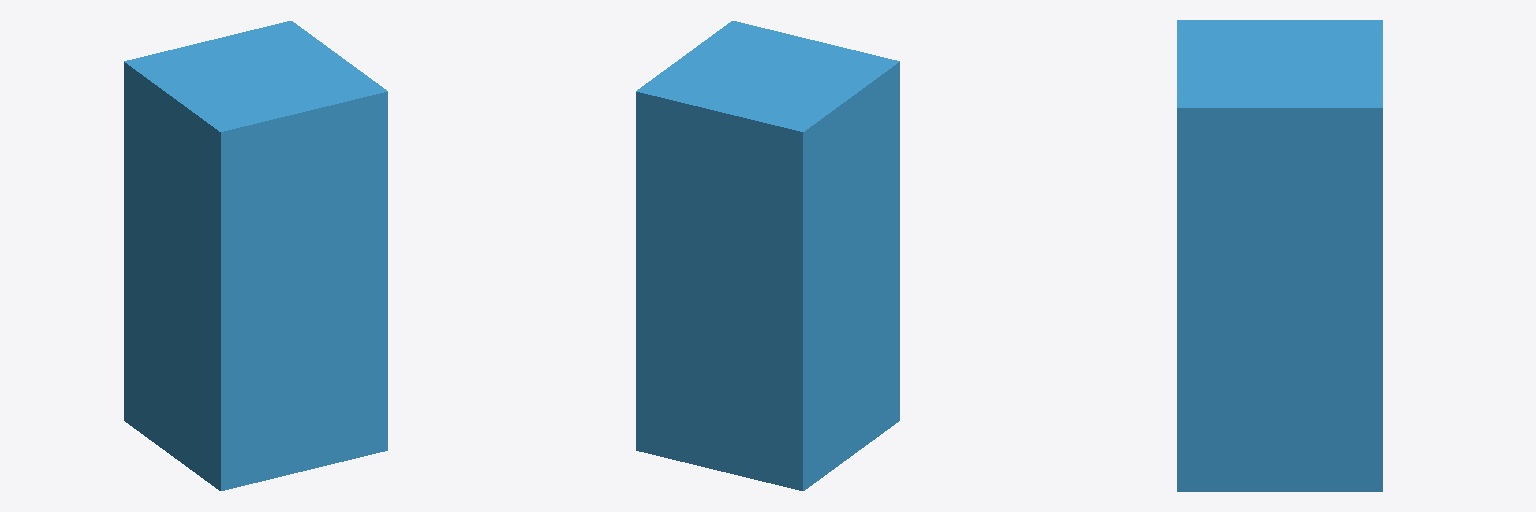
The robot description file, URDF, robot "ouzel":
<?xml version="1.0" encoding="utf-8" ?><!-- =================================================================================== --><!-- |    This document was autogenerated by xacro from ouzel_base.xacro               | --><!-- |    EDITING THIS FILE BY HAND IS NOT RECOMMENDED                                 | --><!-- =================================================================================== --><!--
  Copyright 2015 [author], ASL, ETH Zurich, Switzerland
  Copyright 2015 [author], ASL, ETH Zurich, Switzerland
  Copyright 2015 [author], ASL, ETH Zurich, Switzerland
  Copyright 2015 [author], ASL, ETH Zurich, Switzerland
  Copyright 2015 [author], ASL, ETH Zurich, Switzerland

  Licensed under the Apache License, Version 2.0 (the "License");
  you may not use this file except in compliance with the License.
  You may obtain a copy of the License at

  http://www.apache.org/licenses/LICENSE-2.0

  Unless required by applicable law or agreed to in writing, software
  distributed under the License is distributed on an "AS IS" BASIS,
  WITHOUT WARRANTIES OR CONDITIONS OF ANY KIND, either express or implied.
  See the License for the specific language governing permissions and
  limitations under the License.
--><robot name="ouzel"><!-- =============================================================== --><!-- ==================== ROS INTERFACE MACRO ====================== --><!-- =============================================================== --><!-- <xacro:macro 
  		name="ros_interface_plugin_macro"
  		params="namespace">
    <gazebo>
      <plugin name="ros_interface_plugin" filename="librotors_gazebo_ros_interface_plugin.so">
        <robotNamespace>${namespace}</robotNamespace>
      </plugin>
    </gazebo>
  </xacro:macro>--><link name="ouzel/base_link" /><joint name="ouzel/base_joint" type="fixed"><origin rpy="0 0 0" xyz="0 0 0" /><parent link="ouzel/base_link" /><child link="ouzel/base_link_inertia" /></joint><link name="ouzel/base_link_inertia"><inertial><mass value="3.13" /><!-- [kg] --><origin xyz="0.0 0.0 0.0" /><inertia ixx="0.0075" ixy="-3.4208e-05" ixz="2.4695e-05" iyy="0.010939" iyz="-3.8826e-06" izz="0.01369" /></inertial><visual><origin rpy="0 0 0" xyz="0 0 0" /><geometry><box size="0.22 0.22 0.45" /><!--<mesh filename="package://mav_description/meshes/ouzel_simple.stl" scale="1 1 1"/>--></geometry></visual><collision><origin rpy="0 0 0" xyz="0 0 0" /><geometry><box size="0.22 0.22 0.45" /><!-- [m] [m] [m] --></geometry></collision></link><!-- attach multirotor_base_plugin to the base_link --><!-- Rotor tilt_unit --><joint name="ouzel/tilt_unit_0_revolutejoint" type="continuous"><origin rpy="0 0 4.71238898038" xyz="0 -0.3 0" /><axis xyz="1 0 0" /><parent link="ouzel/base_link" /><child link="ouzel/tilt_unit_0" /></joint><link name="ouzel/tilt_unit_0"><inertial><mass value="0.277" /><!-- [kg] --><inertia ixx="0.00034257" ixy="0" ixz="0" iyy="0.0013205" iyz="0" izz="0.0010037" /><!-- [kg m^2] [kg m^2] [kg m^2] [kg m^2] [kg m^2] [kg m^2] --></inertial><visual><geometry><mesh filename="[local-path]/omav_ws/src/rotors_simulator/rotors_description/meshes/omav/omav_tiltarm.dae" scale="1 1 1" /></geometry></visual><collision><geometry><box size="0.005 0.005 0.005" /><!-- [m] --></geometry></collision></link><!-- Upper Rotor --><joint name="rotor_0_joint" type="continuous"><origin rpy="0 0 0" xyz="0 0 0.06" /><axis xyz="0 0 1" /><parent link="ouzel/tilt_unit_0" /><child link="rotor_0" /></joint><link name="rotor_0"><inertial><mass value="0.0065" /><!-- [kg] --><inertia ixx="2.2154157805e-06" ixy="0.0" ixz="0.0" iyy="7.08147091741e-05" iyz="0.0" izz="7.29326249936e-05" /></inertial><visual><geometry><mesh filename="[local-path]/omav_ws/src/rotors_simulator/rotors_description/meshes/propeller_ccw.dae" scale="0.1143 0.1143 0.1143" /></geometry></visual><collision><geometry><cylinder length="0.005" radius="0.1143" /><!-- [m] --></geometry></collision></link><!-- Lower Rotor --><joint name="rotor_6_joint" type="continuous"><origin rpy="0 0 0" xyz="0 0 -0.06" /><axis xyz="0 0 1" /><parent link="ouzel/tilt_unit_0" /><child link="rotor_6" /></joint><link name="rotor_6"><inertial><mass value="0.0065" /><!-- [kg] --><inertia ixx="2.2154157805e-06" ixy="0.0" ixz="0.0" iyy="7.08147091741e-05" iyz="0.0" izz="7.29326249936e-05" /></inertial><visual><geometry><mesh filename="[local-path]/omav_ws/src/rotors_simulator/rotors_description/meshes/propeller_cw.dae" scale="0.1143 0.1143 0.1143" /></geometry></visual><collision><geometry><cylinder length="0.005" radius="0.1143" /><!-- [m] --></geometry></collision></link><!-- Rotor tilt_unit --><joint name="ouzel/tilt_unit_1_revolutejoint" type="continuous"><origin rpy="0 0 1.57079632679" xyz="0 0.3 0" /><axis xyz="1 0 0" /><parent link="ouzel/base_link" /><child link="ouzel/tilt_unit_1" /></joint><link name="ouzel/tilt_unit_1"><inertial><mass value="0.277" /><!-- [kg] --><inertia ixx="0.00034257" ixy="0" ixz="0" iyy="0.0013205" iyz="0" izz="0.0010037" /><!-- [kg m^2] [kg m^2] [kg m^2] [kg m^2] [kg m^2] [kg m^2] --></inertial><visual><geometry><mesh filename="[local-path]/omav_ws/src/rotors_simulator/rotors_description/meshes/omav/omav_tiltarm.dae" scale="1 1 1" /></geometry></visual><collision><geometry><box size="0.005 0.005 0.005" /><!-- [m] --></geometry></collision></link><!-- Upper Rotor --><joint name="rotor_1_joint" type="continuous"><origin rpy="0 0 0" xyz="0 0 0.06" /><axis xyz="0 0 1" /><parent link="ouzel/tilt_unit_1" /><child link="rotor_1" /></joint><link name="rotor_1"><inertial><mass value="0.0065" /><!-- [kg] --><inertia ixx="2.2154157805e-06" ixy="0.0" ixz="0.0" iyy="7.08147091741e-05" iyz="0.0" izz="7.29326249936e-05" /></inertial><visual><geometry><mesh filename="[local-path]/omav_ws/src/rotors_simulator/rotors_description/meshes/propeller_cw.dae" scale="0.1143 0.1143 0.1143" /></geometry></visual><collision><geometry><cylinder length="0.005" radius="0.1143" /><!-- [m] --></geometry></collision></link><!-- Lower Rotor --><joint name="rotor_7_joint" type="continuous"><origin rpy="0 0 0" xyz="0 0 -0.06" /><axis xyz="0 0 1" /><parent link="ouzel/tilt_unit_1" /><child link="rotor_7" /></joint><link name="rotor_7"><inertial><mass value="0.0065" /><!-- [kg] --><inertia ixx="2.2154157805e-06" ixy="0.0" ixz="0.0" iyy="7.08147091741e-05" iyz="0.0" izz="7.29326249936e-05" /></inertial><visual><geometry><mesh filename="[local-path]/omav_ws/src/rotors_simulator/rotors_description/meshes/propeller_ccw.dae" scale="0.1143 0.1143 0.1143" /></geometry></visual><collision><geometry><cylinder length="0.005" radius="0.1143" /><!-- [m] --></geometry></collision></link><!-- Rotor tilt_unit --><joint name="ouzel/tilt_unit_2_revolutejoint" type="continuous"><origin rpy="0 0 0.52359877559" xyz="0.259807621135 0.15 0" /><axis xyz="1 0 0" /><parent link="ouzel/base_link" /><child link="ouzel/tilt_unit_2" /></joint><link name="ouzel/tilt_unit_2"><inertial><mass value="0.277" /><!-- [kg] --><inertia ixx="0.00034257" ixy="0" ixz="0" iyy="0.0013205" iyz="0" izz="0.0010037" /><!-- [kg m^2] [kg m^2] [kg m^2] [kg m^2] [kg m^2] [kg m^2] --></inertial><visual><geometry><mesh filename="[local-path]/omav_ws/src/rotors_simulator/rotors_description/meshes/omav/omav_tiltarm.dae" scale="1 1 1" /></geometry></visual><collision><geometry><box size="0.005 0.005 0.005" /><!-- [m] --></geometry></collision></link><!-- Upper Rotor --><joint name="rotor_2_joint" type="continuous"><origin rpy="0 0 0" xyz="0 0 0.06" /><axis xyz="0 0 1" /><parent link="ouzel/tilt_unit_2" /><child link="rotor_2" /></joint><link name="rotor_2"><inertial><mass value="0.0065" /><!-- [kg] --><inertia ixx="2.2154157805e-06" ixy="0.0" ixz="0.0" iyy="7.08147091741e-05" iyz="0.0" izz="7.29326249936e-05" /></inertial><visual><geometry><mesh filename="[local-path]/omav_ws/src/rotors_simulator/rotors_description/meshes/propeller_ccw.dae" scale="0.1143 0.1143 0.1143" /></geometry></visual><collision><geometry><cylinder length="0.005" radius="0.1143" /><!-- [m] --></geometry></collision></link><!-- Lower Rotor --><joint name="rotor_8_joint" type="continuous"><origin rpy="0 0 0" xyz="0 0 -0.06" /><axis xyz="0 0 1" /><parent link="ouzel/tilt_unit_2" /><child link="rotor_8" /></joint><link name="rotor_8"><inertial><mass value="0.0065" /><!-- [kg] --><inertia ixx="2.2154157805e-06" ixy="0.0" ixz="0.0" iyy="7.08147091741e-05" iyz="0.0" izz="7.29326249936e-05" /></inertial><visual><geometry><mesh filename="[local-path]/omav_ws/src/rotors_simulator/rotors_description/meshes/propeller_cw.dae" scale="0.1143 0.1143 0.1143" /></geometry></visual><collision><geometry><cylinder length="0.005" radius="0.1143" /><!-- [m] --></geometry></collision></link><!-- Rotor tilt_unit --><joint name="ouzel/tilt_unit_3_revolutejoint" type="continuous"><origin rpy="0 0 3.66519142919" xyz="-0.259807621135 -0.15 0" /><axis xyz="1 0 0" /><parent link="ouzel/base_link" /><child link="ouzel/tilt_unit_3" /></joint><link name="ouzel/tilt_unit_3"><inertial><mass value="0.277" /><!-- [kg] --><inertia ixx="0.00034257" ixy="0" ixz="0" iyy="0.0013205" iyz="0" izz="0.0010037" /><!-- [kg m^2] [kg m^2] [kg m^2] [kg m^2] [kg m^2] [kg m^2] --></inertial><visual><geometry><mesh filename="[local-path]/omav_ws/src/rotors_simulator/rotors_description/meshes/omav/omav_tiltarm.dae" scale="1 1 1" /></geometry></visual><collision><geometry><box size="0.005 0.005 0.005" /><!-- [m] --></geometry></collision></link><!-- Upper Rotor --><joint name="rotor_3_joint" type="continuous"><origin rpy="0 0 0" xyz="0 0 0.06" /><axis xyz="0 0 1" /><parent link="ouzel/tilt_unit_3" /><child link="rotor_3" /></joint><link name="rotor_3"><inertial><mass value="0.0065" /><!-- [kg] --><inertia ixx="2.2154157805e-06" ixy="0.0" ixz="0.0" iyy="7.08147091741e-05" iyz="0.0" izz="7.29326249936e-05" /></inertial><visual><geometry><mesh filename="[local-path]/omav_ws/src/rotors_simulator/rotors_description/meshes/propeller_cw.dae" scale="0.1143 0.1143 0.1143" /></geometry></visual><collision><geometry><cylinder length="0.005" radius="0.1143" /><!-- [m] --></geometry></collision></link><!-- Lower Rotor --><joint name="rotor_9_joint" type="continuous"><origin rpy="0 0 0" xyz="0 0 -0.06" /><axis xyz="0 0 1" /><parent link="ouzel/tilt_unit_3" /><child link="rotor_9" /></joint><link name="rotor_9"><inertial><mass value="0.0065" /><!-- [kg] --><inertia ixx="2.2154157805e-06" ixy="0.0" ixz="0.0" iyy="7.08147091741e-05" iyz="0.0" izz="7.29326249936e-05" /></inertial><visual><geometry><mesh filename="[local-path]/omav_ws/src/rotors_simulator/rotors_description/meshes/propeller_ccw.dae" scale="0.1143 0.1143 0.1143" /></geometry></visual><collision><geometry><cylinder length="0.005" radius="0.1143" /><!-- [m] --></geometry></collision></link><!-- Rotor tilt_unit --><joint name="ouzel/tilt_unit_4_revolutejoint" type="continuous"><origin rpy="0 0 5.75958653158" xyz="0.259807621135 -0.15 0" /><axis xyz="1 0 0" /><parent link="ouzel/base_link" /><child link="ouzel/tilt_unit_4" /></joint><link name="ouzel/tilt_unit_4"><inertial><mass value="0.277" /><!-- [kg] --><inertia ixx="0.00034257" ixy="0" ixz="0" iyy="0.0013205" iyz="0" izz="0.0010037" /><!-- [kg m^2] [kg m^2] [kg m^2] [kg m^2] [kg m^2] [kg m^2] --></inertial><visual><geometry><mesh filename="[local-path]/omav_ws/src/rotors_simulator/rotors_description/meshes/omav/omav_tiltarm.dae" scale="1 1 1" /></geometry></visual><collision><geometry><box size="0.005 0.005 0.005" /><!-- [m] --></geometry></collision></link><!-- Upper Rotor --><joint name="rotor_4_joint" type="continuous"><origin rpy="0 0 0" xyz="0 0 0.06" /><axis xyz="0 0 1" /><parent link="ouzel/tilt_unit_4" /><child link="rotor_4" /></joint><link name="rotor_4"><inertial><mass value="0.0065" /><!-- [kg] --><inertia ixx="2.2154157805e-06" ixy="0.0" ixz="0.0" iyy="7.08147091741e-05" iyz="0.0" izz="7.29326249936e-05" /></inertial><visual><geometry><mesh filename="[local-path]/omav_ws/src/rotors_simulator/rotors_description/meshes/propeller_cw.dae" scale="0.1143 0.1143 0.1143" /></geometry></visual><collision><geometry><cylinder length="0.005" radius="0.1143" /><!-- [m] --></geometry></collision></link><!-- Lower Rotor --><joint name="rotor_10_joint" type="continuous"><origin rpy="0 0 0" xyz="0 0 -0.06" /><axis xyz="0 0 1" /><parent link="ouzel/tilt_unit_4" /><child link="rotor_10" /></joint><link name="rotor_10"><inertial><mass value="0.0065" /><!-- [kg] --><inertia ixx="2.2154157805e-06" ixy="0.0" ixz="0.0" iyy="7.08147091741e-05" iyz="0.0" izz="7.29326249936e-05" /></inertial><visual><geometry><mesh filename="[local-path]/omav_ws/src/rotors_simulator/rotors_description/meshes/propeller_ccw.dae" scale="0.1143 0.1143 0.1143" /></geometry></visual><collision><geometry><cylinder length="0.005" radius="0.1143" /><!-- [m] --></geometry></collision></link><!-- Rotor tilt_unit --><joint name="ouzel/tilt_unit_5_revolutejoint" type="continuous"><origin rpy="0 0 2.61799387799" xyz="-0.259807621135 0.15 0" /><axis xyz="1 0 0" /><parent link="ouzel/base_link" /><child link="ouzel/tilt_unit_5" /></joint><link name="ouzel/tilt_unit_5"><inertial><mass value="0.277" /><!-- [kg] --><inertia ixx="0.00034257" ixy="0" ixz="0" iyy="0.0013205" iyz="0" izz="0.0010037" /><!-- [kg m^2] [kg m^2] [kg m^2] [kg m^2] [kg m^2] [kg m^2] --></inertial><visual><geometry><mesh filename="[local-path]/omav_ws/src/rotors_simulator/rotors_description/meshes/omav/omav_tiltarm.dae" scale="1 1 1" /></geometry></visual><collision><geometry><box size="0.005 0.005 0.005" /><!-- [m] --></geometry></collision></link><!-- Upper Rotor --><joint name="rotor_5_joint" type="continuous"><origin rpy="0 0 0" xyz="0 0 0.06" /><axis xyz="0 0 1" /><parent link="ouzel/tilt_unit_5" /><child link="rotor_5" /></joint><link name="rotor_5"><inertial><mass value="0.0065" /><!-- [kg] --><inertia ixx="2.2154157805e-06" ixy="0.0" ixz="0.0" iyy="7.08147091741e-05" iyz="0.0" izz="7.29326249936e-05" /></inertial><visual><geometry><mesh filename="[local-path]/omav_ws/src/rotors_simulator/rotors_description/meshes/propeller_ccw.dae" scale="0.1143 0.1143 0.1143" /></geometry></visual><collision><geometry><cylinder length="0.005" radius="0.1143" /><!-- [m] --></geometry></collision></link><!-- Lower Rotor --><joint name="rotor_11_joint" type="continuous"><origin rpy="0 0 0" xyz="0 0 -0.06" /><axis xyz="0 0 1" /><parent link="ouzel/tilt_unit_5" /><child link="rotor_11" /></joint><link name="rotor_11"><inertial><mass value="0.0065" /><!-- [kg] --><inertia ixx="2.2154157805e-06" ixy="0.0" ixz="0.0" iyy="7.08147091741e-05" iyz="0.0" izz="7.29326249936e-05" /></inertial><visual><geometry><mesh filename="[local-path]/omav_ws/src/rotors_simulator/rotors_description/meshes/propeller_cw.dae" scale="0.1143 0.1143 0.1143" /></geometry></visual><collision><geometry><cylinder length="0.005" radius="0.1143" /><!-- [m] --></geometry></collision></link><!-- IMU link --><link name="ouzel/imu_link"><inertial><inertia ixx="0.00001" ixy="0.0" ixz="0.0" iyy="0.00001" iyz="0.0" izz="0.00001" /><mass value="0.015" /><!-- [kg] --><origin rpy="0 0 0" xyz="0 0 0" /></inertial></link><!-- IMU joint --><joint name="ouzel/imu_joint" type="fixed"><origin rpy="0 0 0" xyz="0 0 0" /><parent link="ouzel/base_link" /><child link="ouzel/imu_link" /><limit effort="0" lower="0" upper="0" velocity="0" /></joint><!-- odometry link --><link name="ouzel/odometry_sensor1_link"><inertial><inertia ixx="0.00001" ixy="0.0" ixz="0.0" iyy="0.00001" iyz="0.0" izz="0.00001" /><mass value="1e-05" /><!-- [kg] --></inertial></link><!-- odometry joint --><joint name="ouzel/odometry_sensor1_joint" type="fixed"><parent link="ouzel/base_link" /><origin rpy="0.0 0.0 0.0" xyz="0.0 0.0 0.0" /><child link="ouzel/odometry_sensor1_link" /><limit effort="0" lower="0" upper="0" velocity="0" /></joint></robot>

--- Render facts (derived) ---
The picture shows the robot from 3 angles, left to right: view 1: azimuth 30°, elevation 25°; view 2: azimuth 150°, elevation 25°; view 3: azimuth 270°, elevation 25°; orthographic projection.
Robot: ouzel — 22 links, 21 joints (18 continuous, 3 fixed); root link ouzel/base_link; default pose: every joint at zero.
Visible links, largest first — view 1: ouzel/base_link_inertia; view 2: ouzel/base_link_inertia; view 3: ouzel/base_link_inertia.
Link boxes in pixels (box(x1,y1,x2,y2)): ouzel/base_link_inertia: box(124, 21, 387, 490); ouzel/base_link_inertia: box(636, 21, 899, 490); ouzel/base_link_inertia: box(1177, 20, 1382, 491).
Size in the robot's own frame: 0.22 by 0.22 by 0.45 metres.
Geometry: only primitive shapes (box / cylinder / sphere) drawn; not drawn: 18 mesh visuals (reference in a form the renderer does not follow).